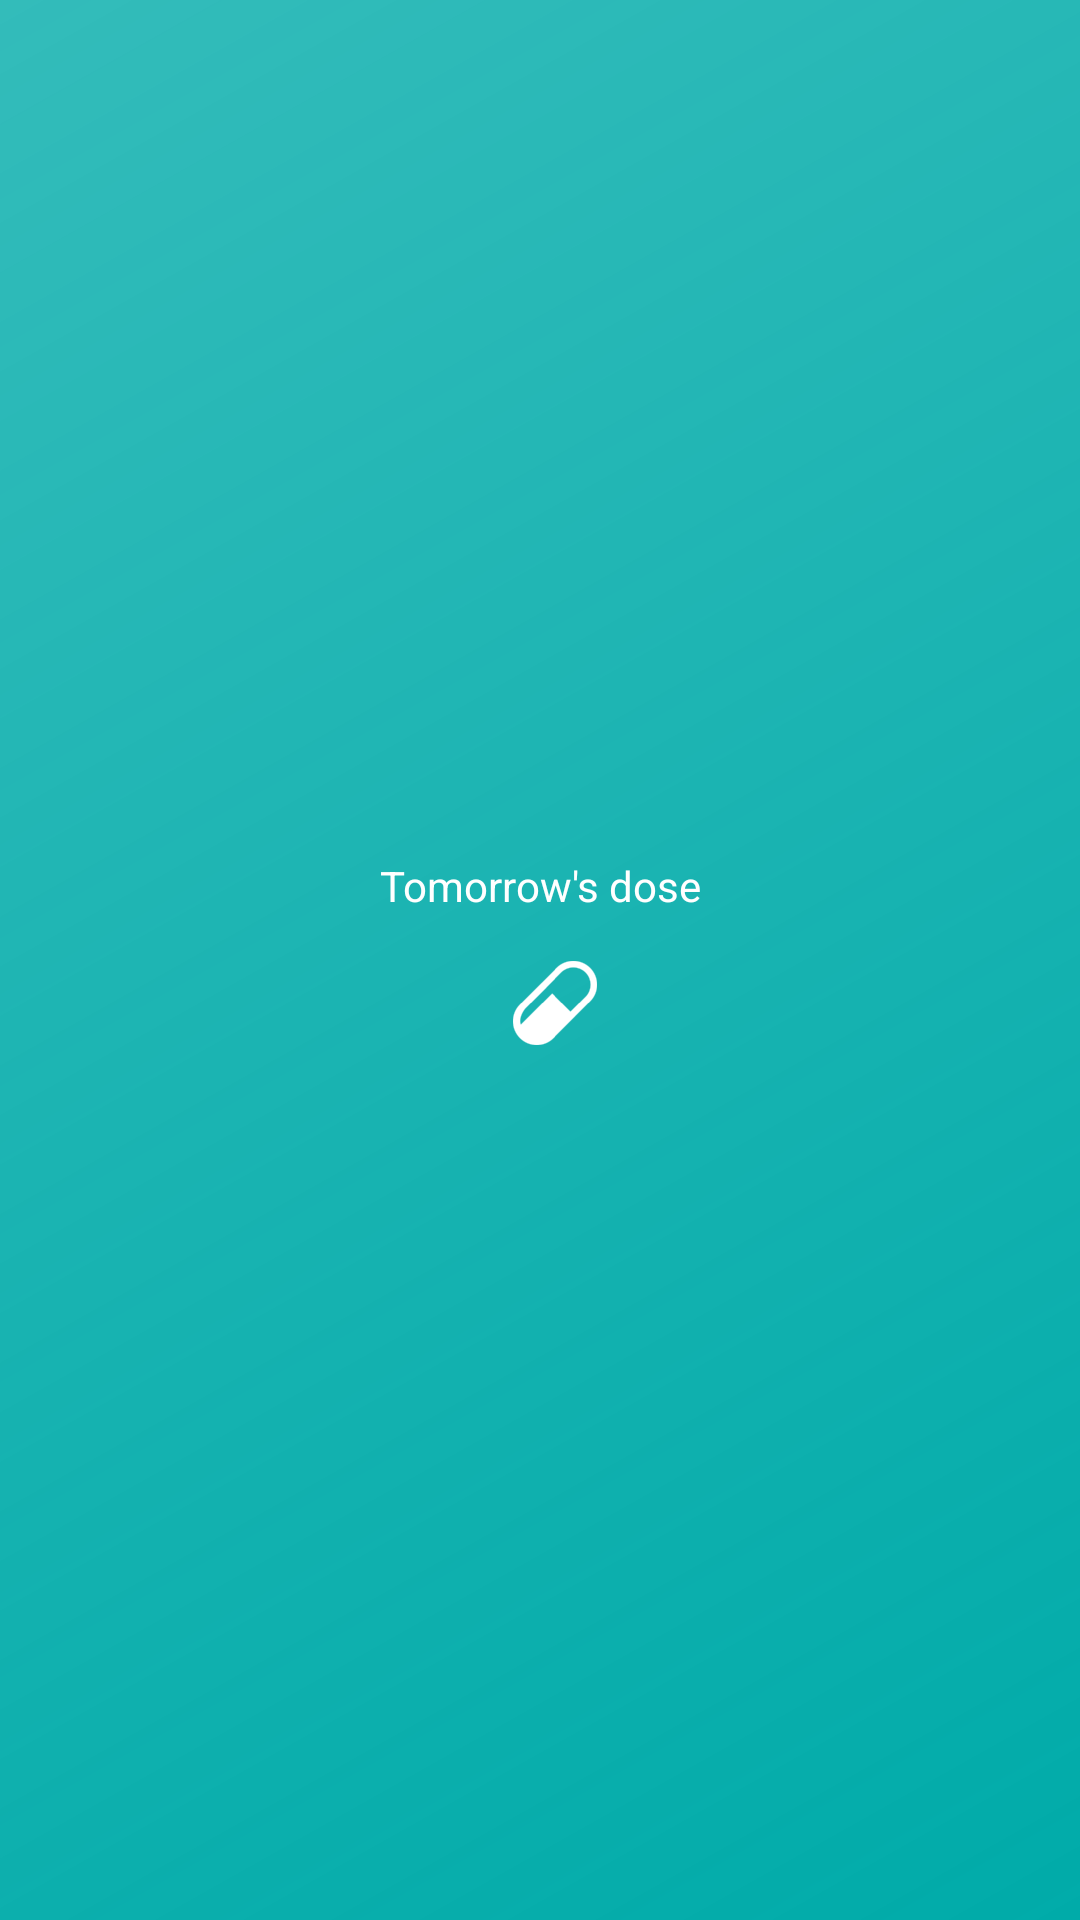

Named icons in this screenshot (1080 x 1920) and their bounding boxes, (x1, y1, x2, y2):
pill: (513, 961, 597, 1045)
